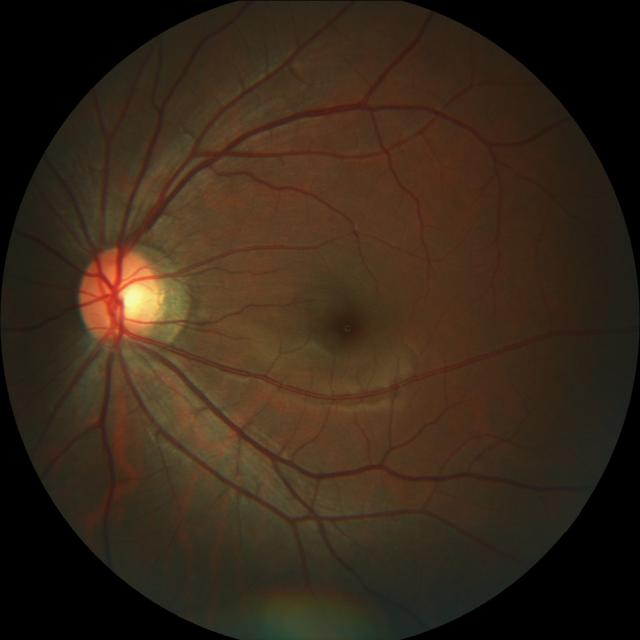OC: (109, 275, 153, 320)
OD: (77, 246, 161, 342)
